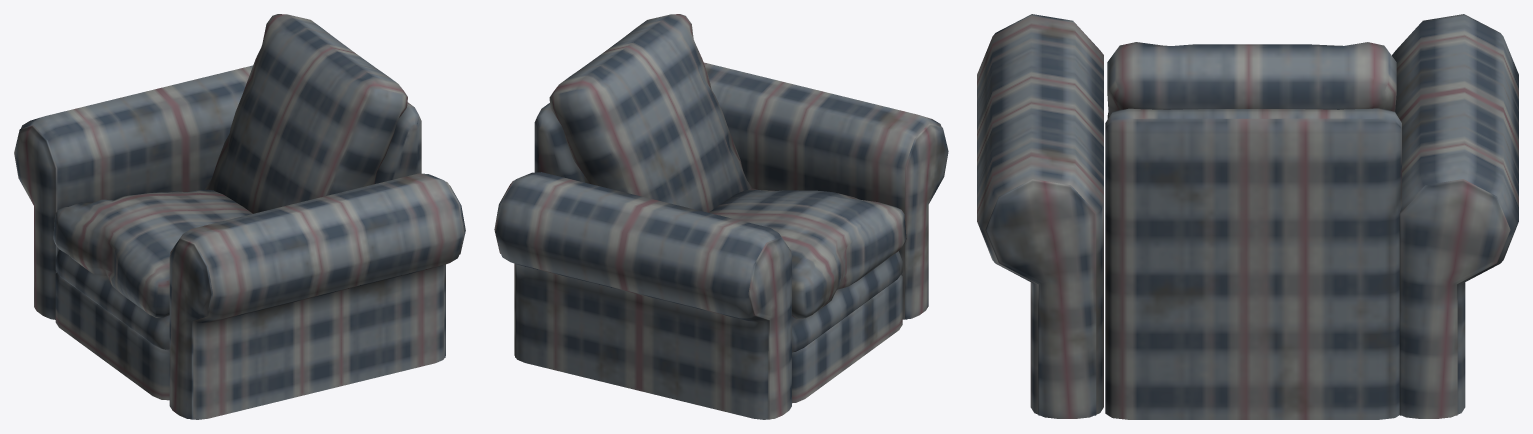
The model's file is SM_Sofa_small.fbx.
3 renders of one model, left to right at view 1: azimuth 30°, elevation 25°; view 2: azimuth 150°, elevation 25°; view 3: azimuth 270°, elevation 25°, orthographic. The views are drawn at different scales.
Parts seen in each view (by area): view 1: SM_Sofa_small.001; view 2: SM_Sofa_small.001; view 3: SM_Sofa_small.001.
Boxes of the visible parts, x1,y1,x2,y2 form: SM_Sofa_small.001: [14, 14, 465, 419]; SM_Sofa_small.001: [494, 14, 948, 419]; SM_Sofa_small.001: [977, 14, 1518, 419].
Size of the model in its own units: 92.11 by 120 by 84.53.
